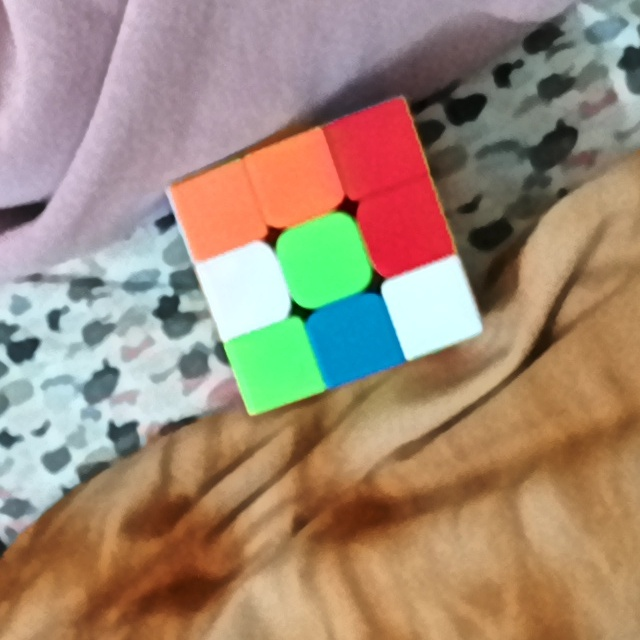tile: (343, 118, 408, 181), (377, 196, 439, 258), (263, 152, 326, 211), (296, 230, 355, 291), (246, 335, 305, 396), (184, 184, 246, 242), (325, 308, 385, 366), (214, 263, 274, 319), (402, 280, 462, 336)
